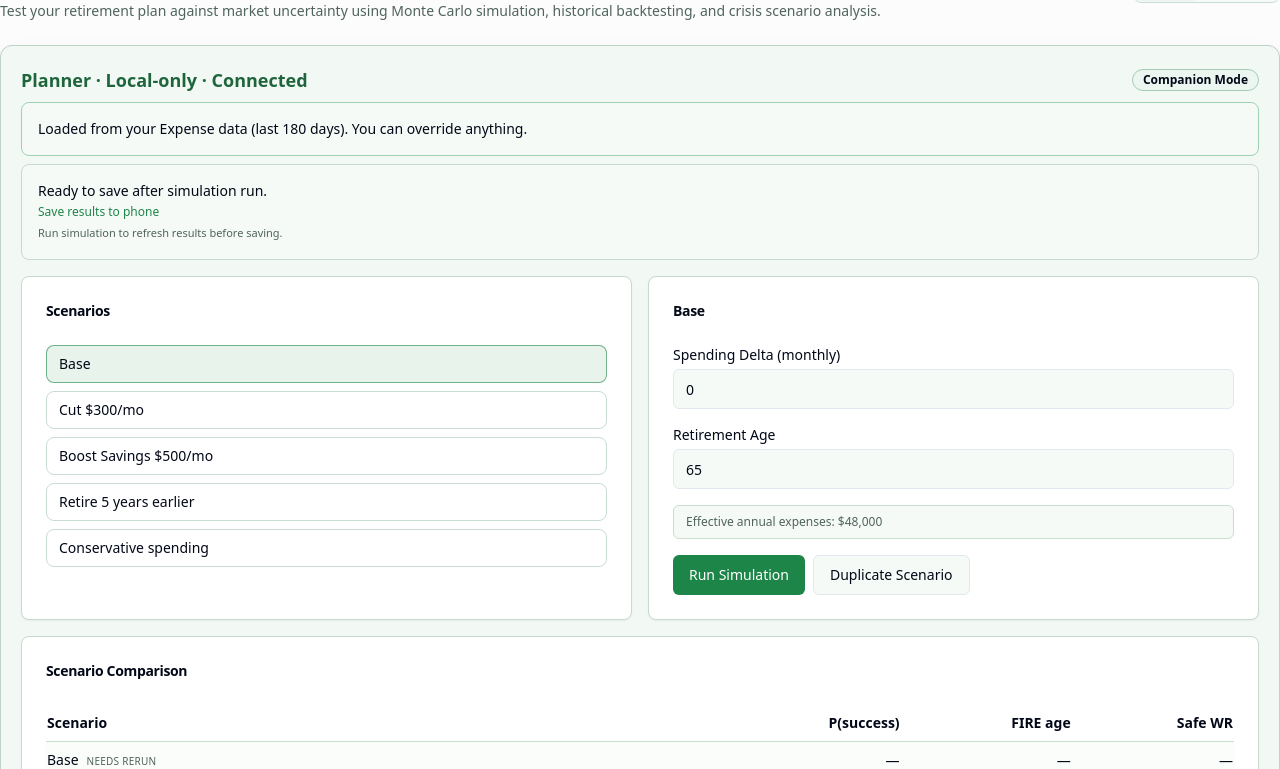
StressTestPage companion orchestration › shows full timeout message when zero levers complete
Click the button "Run Simulation": (739, 575) 673,555 -> 805,595
Wait 16000 ms
(page scrolled)
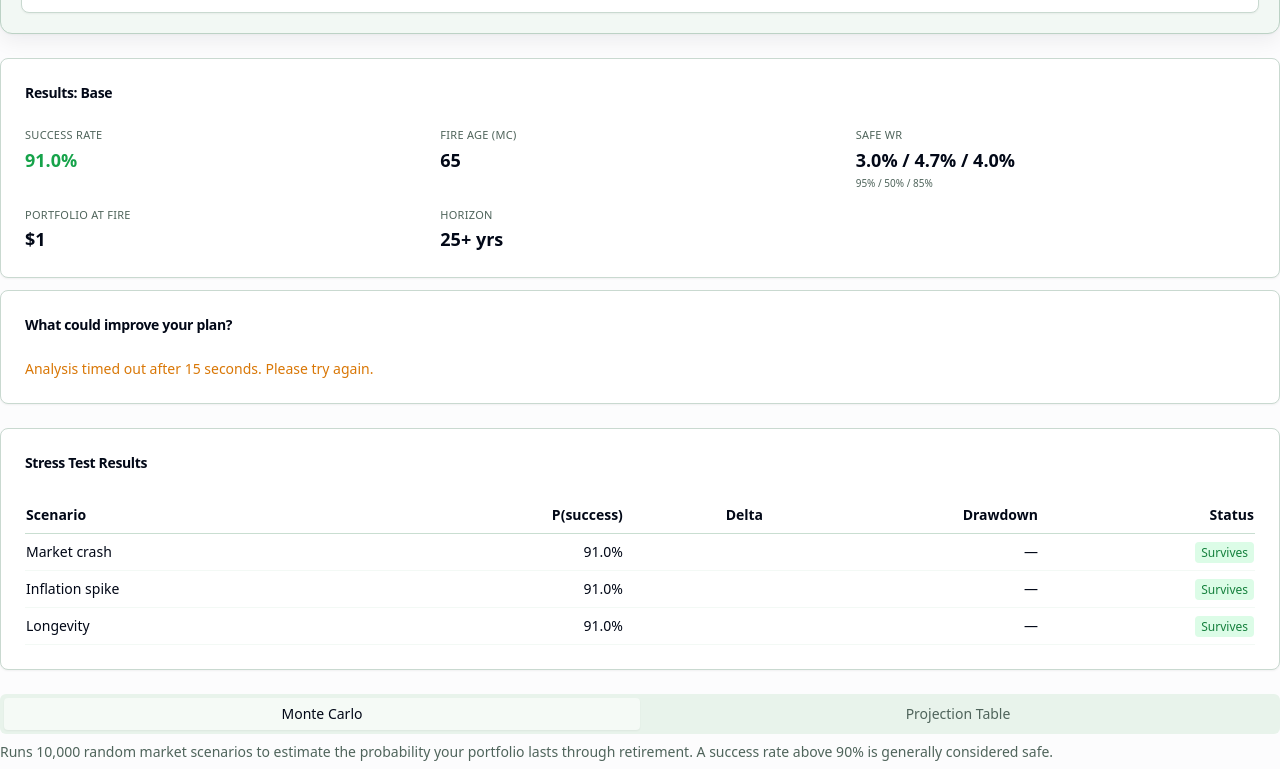
Now the text "Analysis timed out after 15 seconds. Please try again." is shown, box 25,359 -> 374,378
